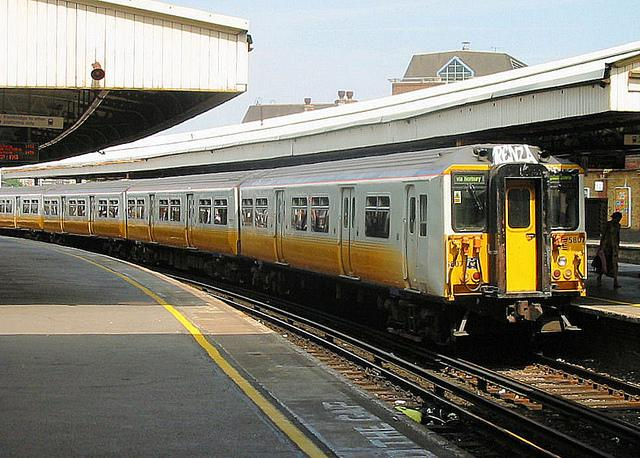Train: (0, 146, 590, 350)
